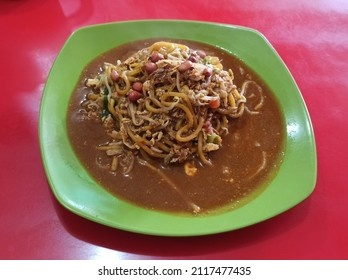mie_aceh: (65, 36, 288, 214)
